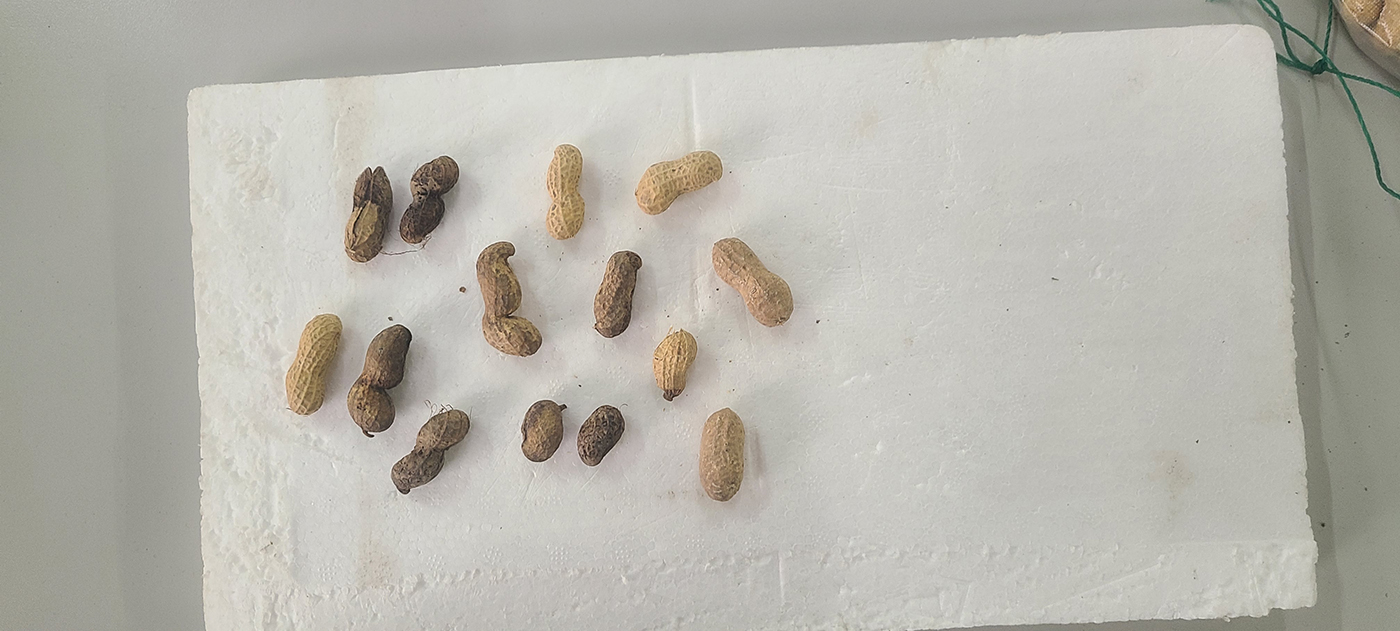h: (713, 237, 794, 328), (634, 150, 723, 216), (286, 314, 343, 415), (699, 408, 744, 500), (546, 143, 586, 241), (653, 330, 697, 399)
l: (475, 240, 543, 356), (346, 323, 413, 435), (391, 409, 470, 494), (399, 155, 460, 244), (346, 166, 393, 263), (593, 250, 643, 338), (519, 398, 564, 462), (578, 405, 624, 466)
